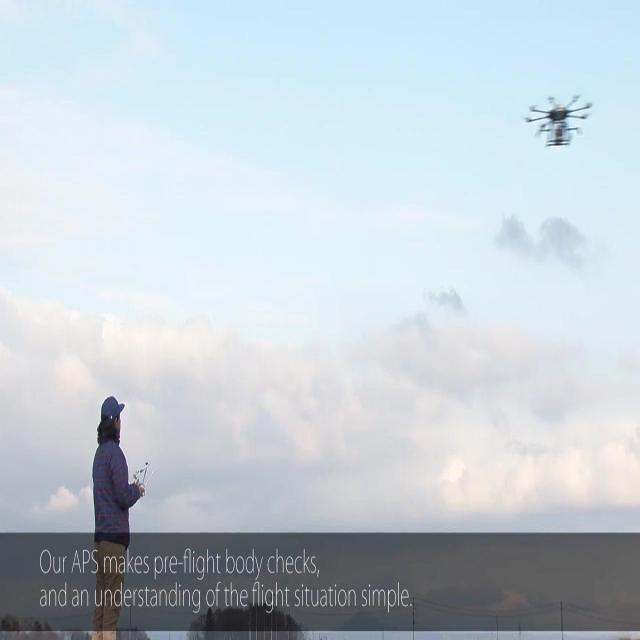drone: (526, 89, 593, 154)
